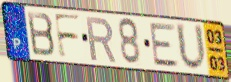8: (117, 17, 142, 68)
B: (25, 10, 57, 59)
E: (148, 22, 181, 69)
F: (52, 12, 82, 61)
R: (84, 15, 118, 64)
U: (174, 21, 208, 73)
